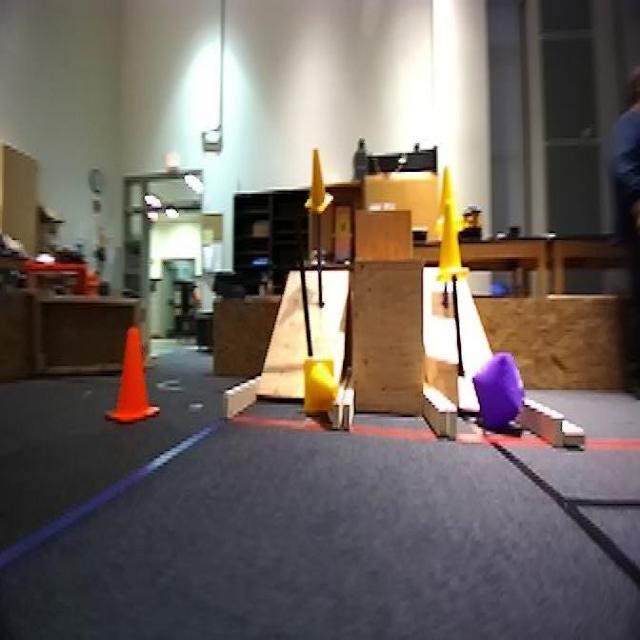frc_cone: (304, 358, 348, 420), (438, 208, 470, 276), (305, 150, 334, 214), (439, 166, 462, 236)
frc_cube: (473, 352, 521, 428)
